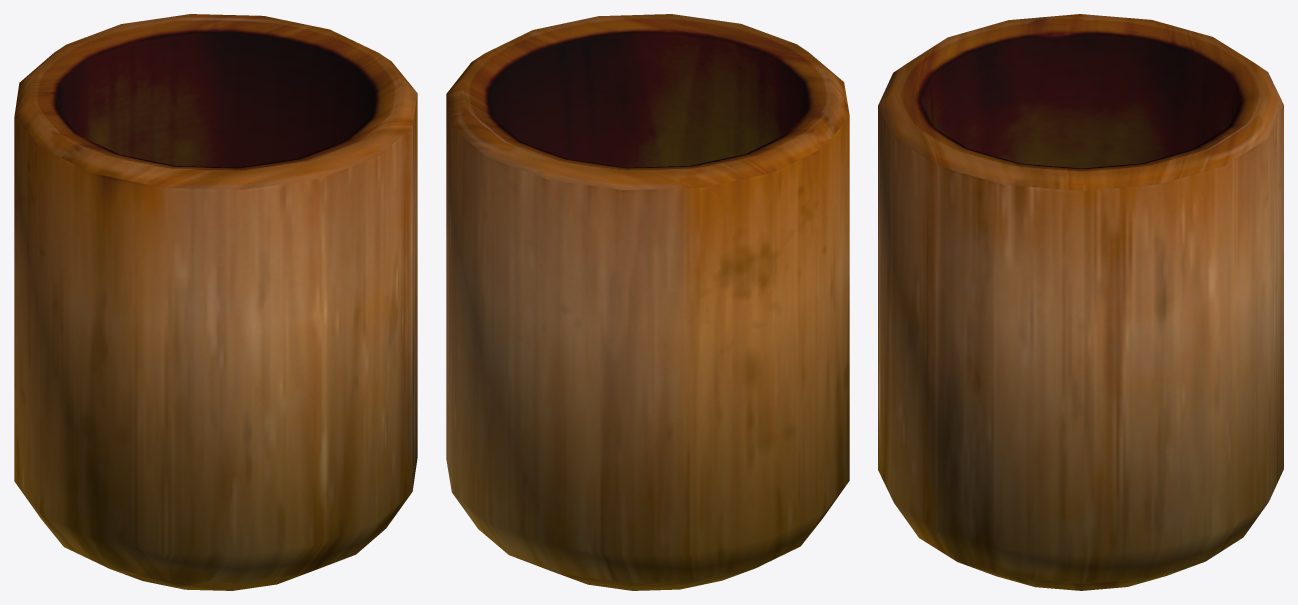
File: Cup_Wood.fbx
3 renders of one model, left to right at view 1: azimuth 30°, elevation 25°; view 2: azimuth 150°, elevation 25°; view 3: azimuth 270°, elevation 25°, orthographic.
Visible parts, largest first — view 1: U_Cup_Wood; view 2: U_Cup_Wood; view 3: U_Cup_Wood.
Boxes of the visible parts, box(x1,y1,x2,y2) form: U_Cup_Wood: box(14, 14, 417, 590); U_Cup_Wood: box(446, 14, 849, 590); U_Cup_Wood: box(878, 14, 1283, 590).
Bounding box in the file's own units: 24.94 × 30.28 × 24.94.
1 material, 1 textured.
